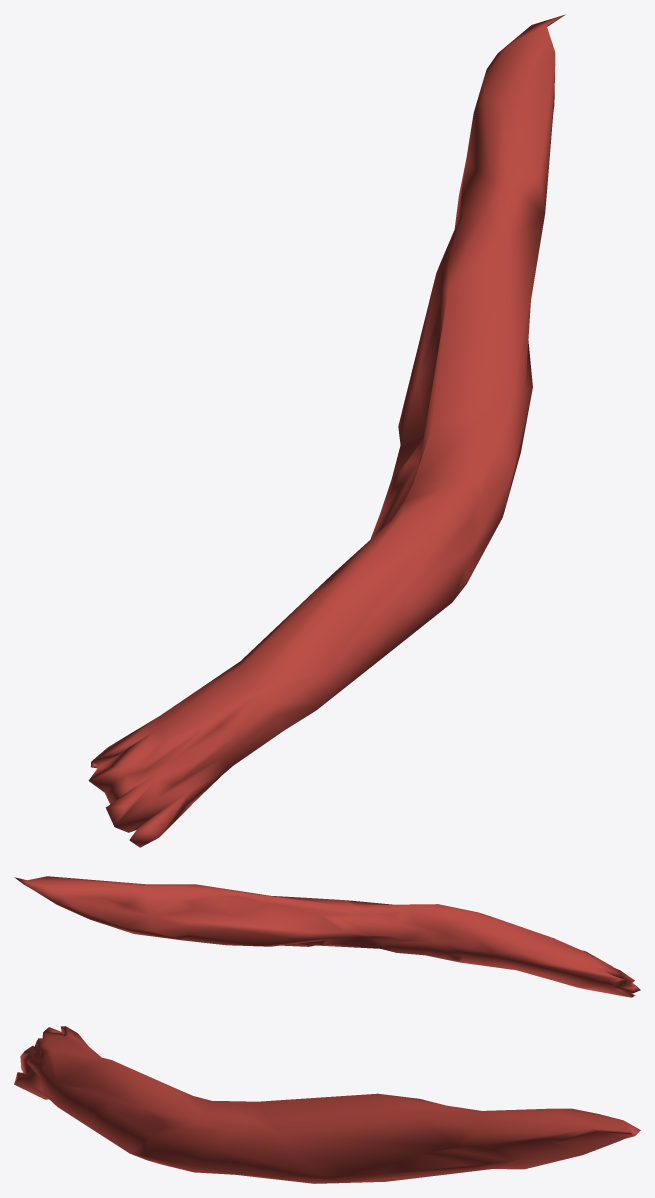
The model's file is musculos-subclavius-muscle-l.glb.
3 renders of one model, top to bottom at view 1: azimuth 30°, elevation 25°; view 2: azimuth 150°, elevation 25°; view 3: azimuth 270°, elevation 25°, orthographic. The views are drawn at different scales.
Visible parts, largest first — view 1: Subclavius muscle.l; view 2: Subclavius muscle.l; view 3: Subclavius muscle.l.
Part boxes in pixels (x1=…): Subclavius muscle.l: x1=88, y1=14, x2=565, y2=847; Subclavius muscle.l: x1=14, y1=876, x2=640, y2=997; Subclavius muscle.l: x1=14, y1=1026, x2=640, y2=1183.
Size of the model in its own units: 0.0747 by 0.0277 by 0.0616.
